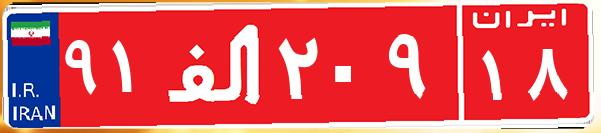0: (330, 28, 385, 110)
1: (475, 38, 525, 113), (110, 28, 158, 105)
2: (273, 28, 330, 110)
8: (525, 38, 570, 115)
9: (385, 28, 445, 110), (57, 26, 110, 107)
الف: (158, 15, 273, 115)
